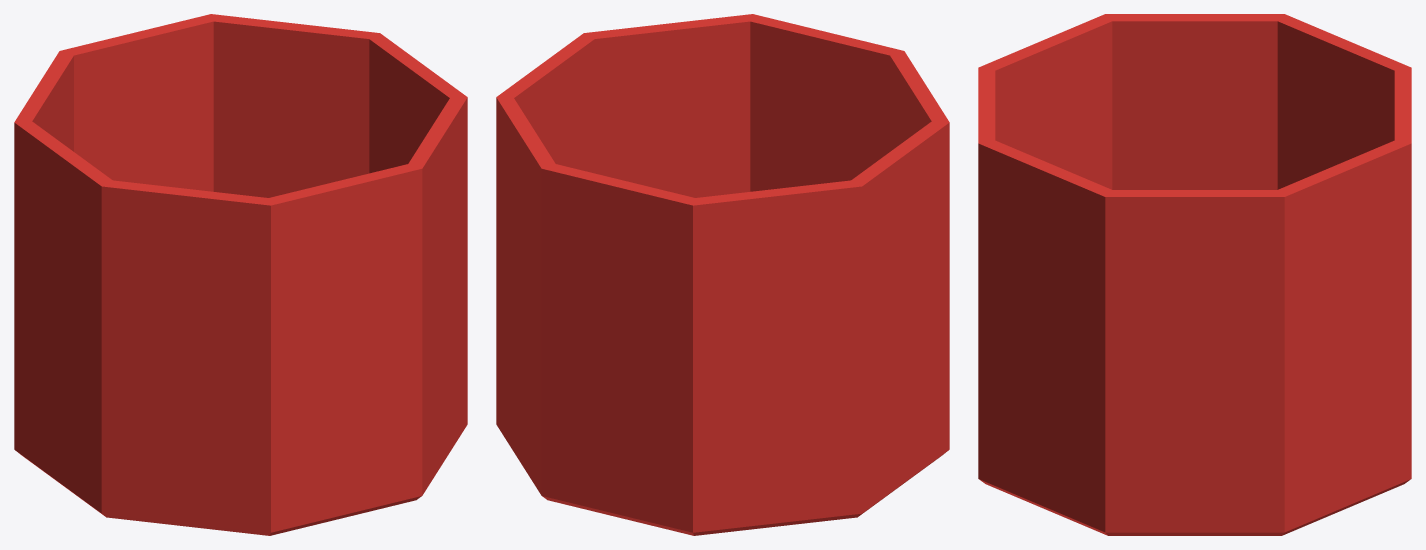
Rendered from SM_Gift_Christmas_Cylinder_Open_Base.fbx.
3 views of the same model, side by side, from view 1: azimuth 30°, elevation 25°; view 2: azimuth 150°, elevation 25°; view 3: azimuth 270°, elevation 25° (orthographic). The views are drawn at different scales.
Visible parts, largest first — view 1: gift-christmas-cylinder-open-base; view 2: gift-christmas-cylinder-open-base; view 3: gift-christmas-cylinder-open-base.
Boxes of the visible parts, x1,y1,x2,y2 form: gift-christmas-cylinder-open-base: (14,14,467,535); gift-christmas-cylinder-open-base: (496,14,949,535); gift-christmas-cylinder-open-base: (978,14,1411,535).
Bounding box in the file's own units: 0.2469 × 0.2151 × 0.2469.
